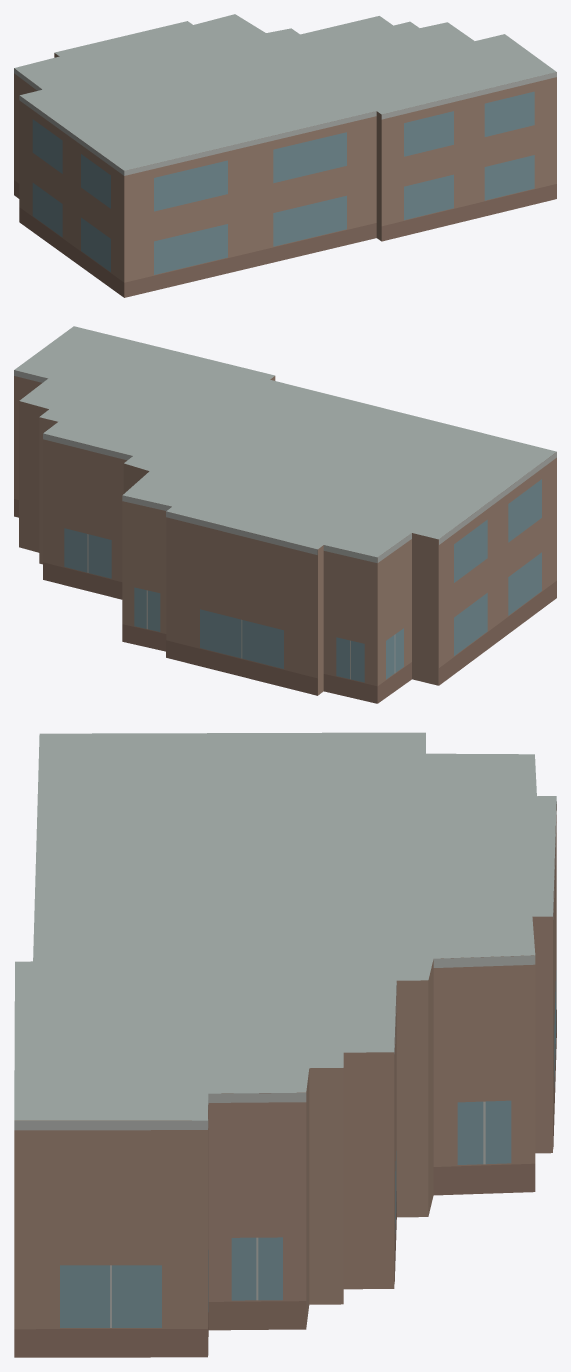
Rendered from survey-upis-32995410.glb.
3 views of the same model, one above another, from view 1: azimuth 30°, elevation 25°; view 2: azimuth 150°, elevation 25°; view 3: azimuth 270°, elevation 25° (orthographic). The views are drawn at different scales.
Parts seen in each view (by area): view 1: survey-upis-32995410.tmp; view 2: survey-upis-32995410.tmp; view 3: survey-upis-32995410.tmp.
Boxes of the visible parts, bbox=[...] form: survey-upis-32995410.tmp: bbox=[14, 14, 556, 297]; survey-upis-32995410.tmp: bbox=[14, 326, 556, 703]; survey-upis-32995410.tmp: bbox=[14, 732, 556, 1357].
Bounding box in the file's own units: 21.48 × 6.1 × 12.69.
